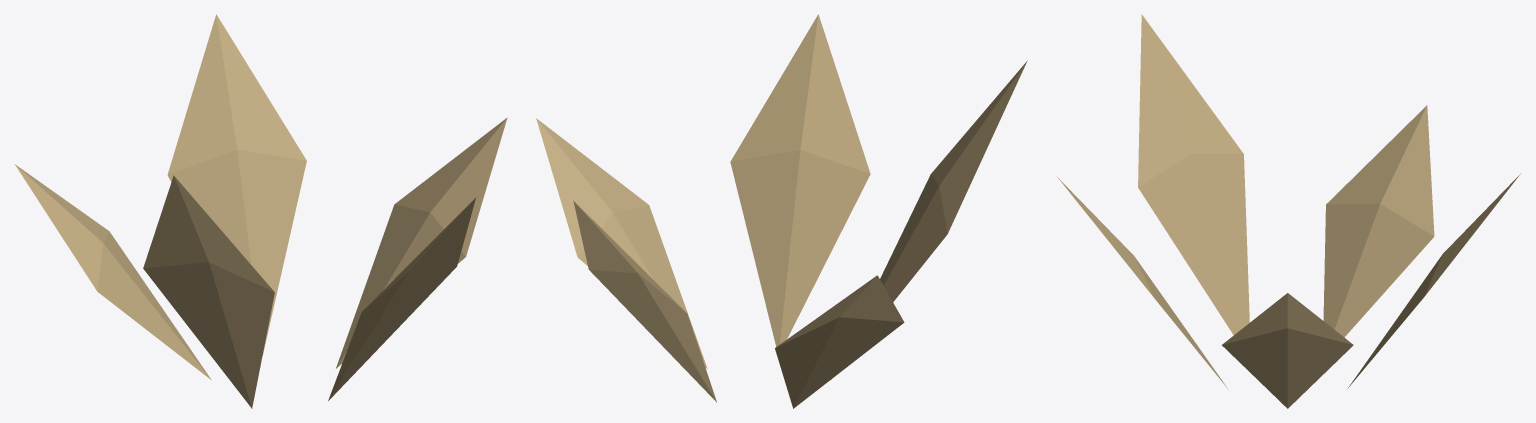
3 views of the same model, side by side, from view 1: azimuth 30°, elevation 25°; view 2: azimuth 150°, elevation 25°; view 3: azimuth 270°, elevation 25° (orthographic). The views are drawn at different scales.
Parts seen in each view (by area): view 1: V01; view 2: V01; view 3: V01.
Boxes of the visible parts, left/top/right/bottom form: V01: left=14, top=14, right=507, bottom=408; V01: left=536, top=14, right=1027, bottom=408; V01: left=1057, top=14, right=1520, bottom=408.
Size of the model in its own units: 0.4369 by 0.3108 by 0.4579.
